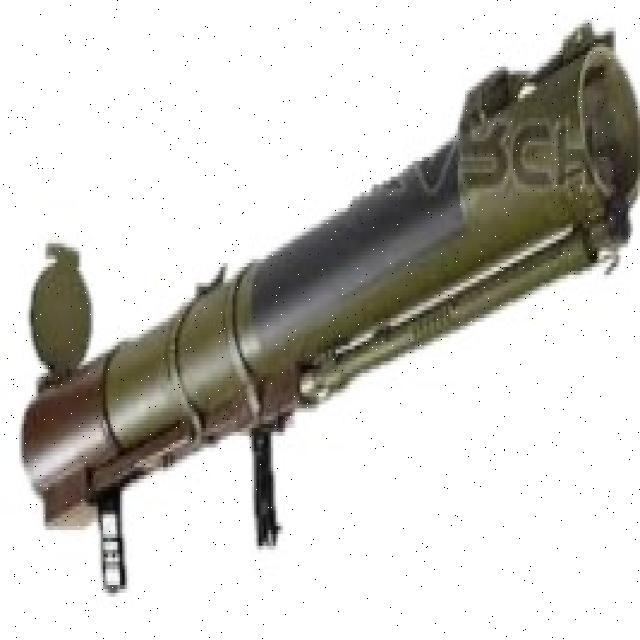bazooka: (20, 22, 640, 602)
